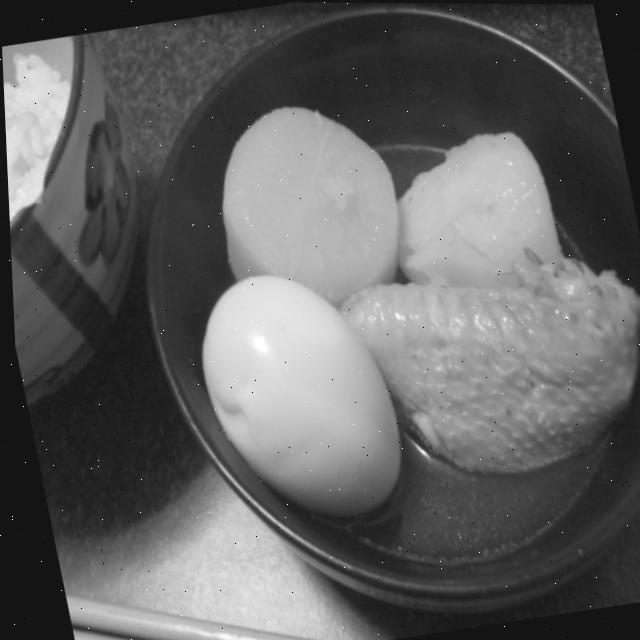汤锅炖物: (146, 57, 640, 533)
